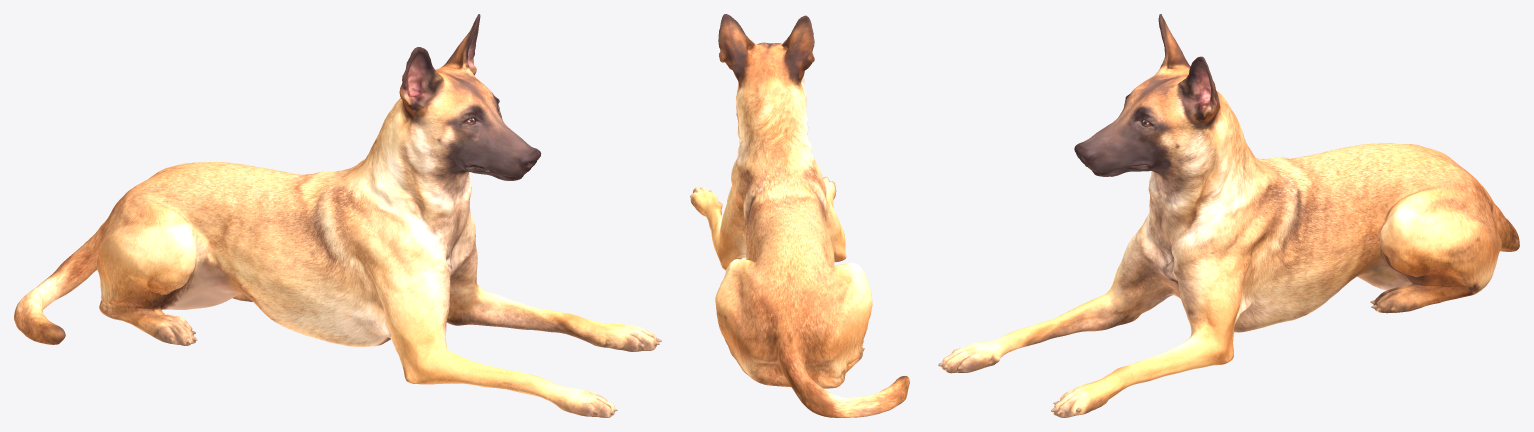
Rendered from scene-processed.gltf.
The picture shows the model from 3 angles, left to right: view 1: azimuth 30°, elevation 25°; view 2: azimuth 150°, elevation 25°; view 3: azimuth 270°, elevation 25°; orthographic projection. The views are drawn at different scales.
Parts seen in each view (by area): view 1: Material0-material; view 2: Material0-material; view 3: Material0-material.
Part boxes in pixels (x1,y1,x2,y2): Material0-material: [14, 14, 661, 417]; Material0-material: [690, 14, 909, 417]; Material0-material: [938, 14, 1519, 417].
Bounding box in the file's own units: 1.15 × 0.8075 × 1.29.
Materials: 2 (1 with a texture image).
